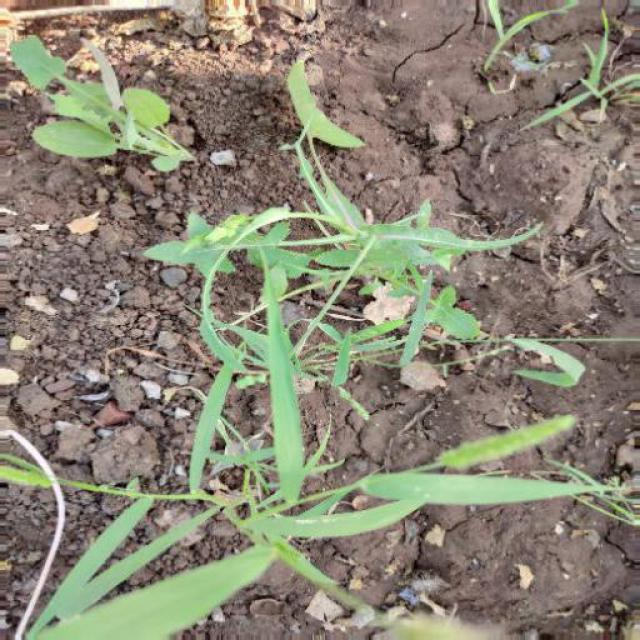weed: (16, 130, 600, 596)
